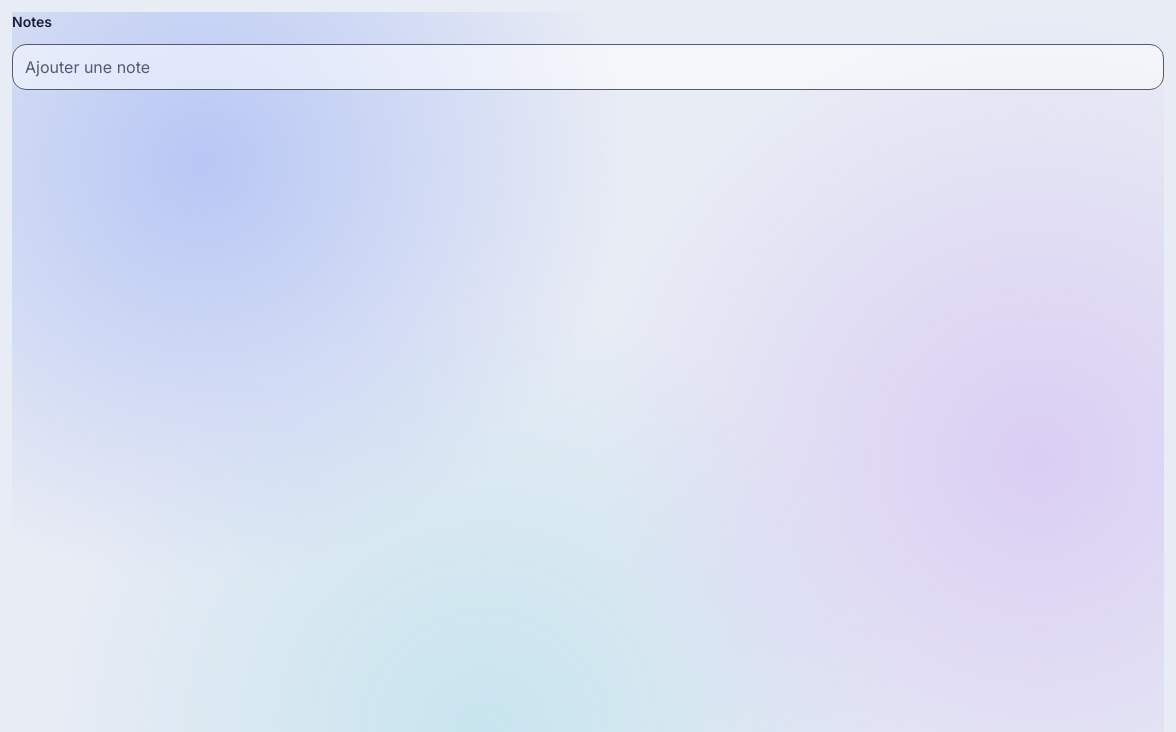
Test: champ de notes repliable › saisie puis départ : reste déplié, texte gardé tel quel
This screenshot has width=1176, height=732.
Focus the text box labelled "Notes" at (588, 67), box [12,44,1164,90]
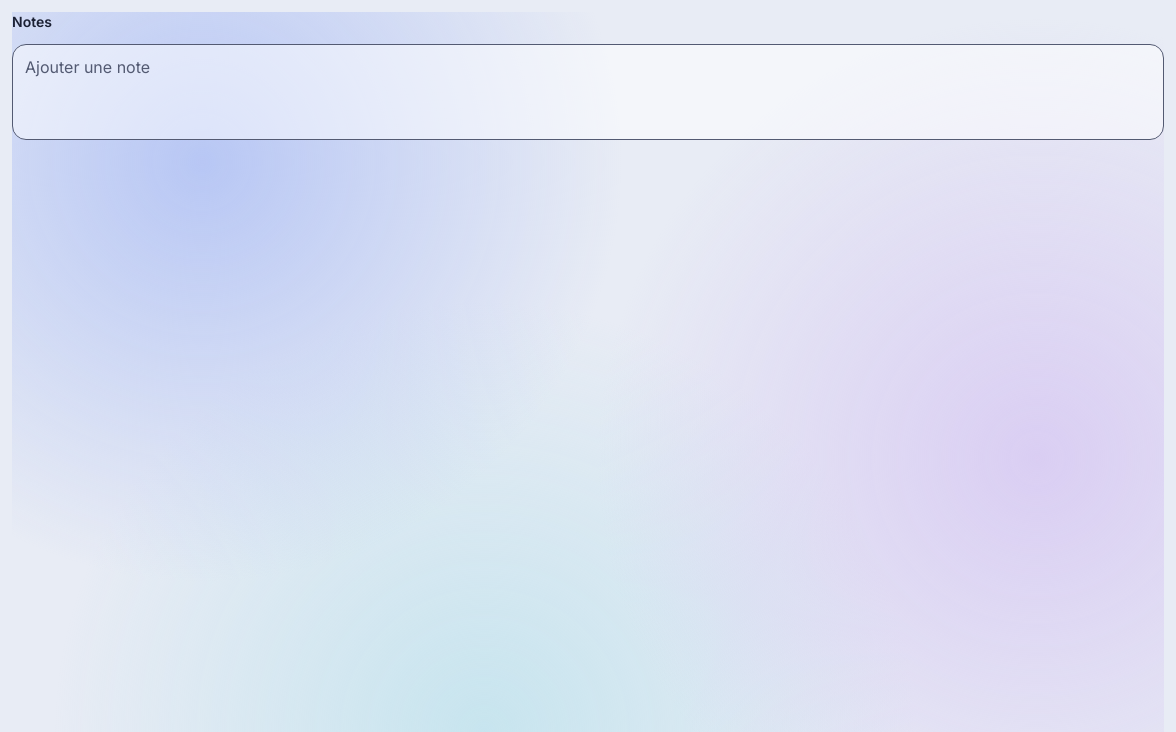
Type "  Penser au devis " into the text box labelled "Notes".
click(588, 92); type("  Penser au devis ")  # box [12,44,1164,140]
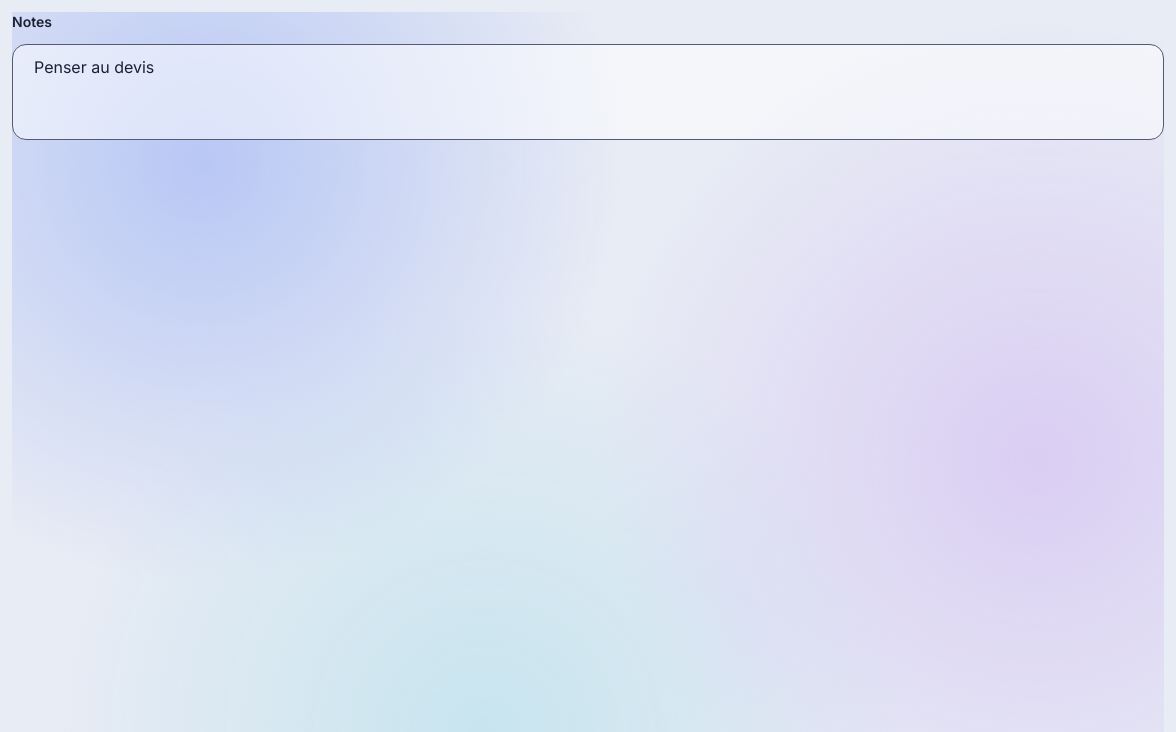
Check: the text box labelled "Notes" has attribute data-collapsed="false", box [12,44,1164,140]
